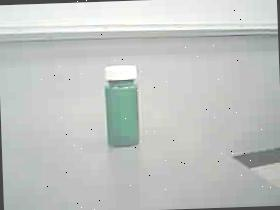Bottle C: (93, 55, 155, 156)
